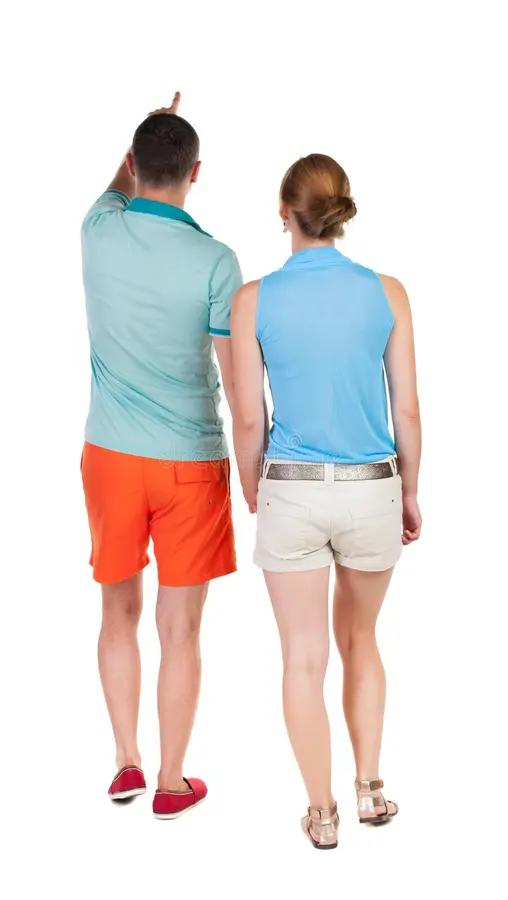Shorts: (77, 438, 242, 590), (251, 458, 411, 577)
short sleeve shirt: (75, 187, 244, 465)
vest: (252, 249, 399, 468)
